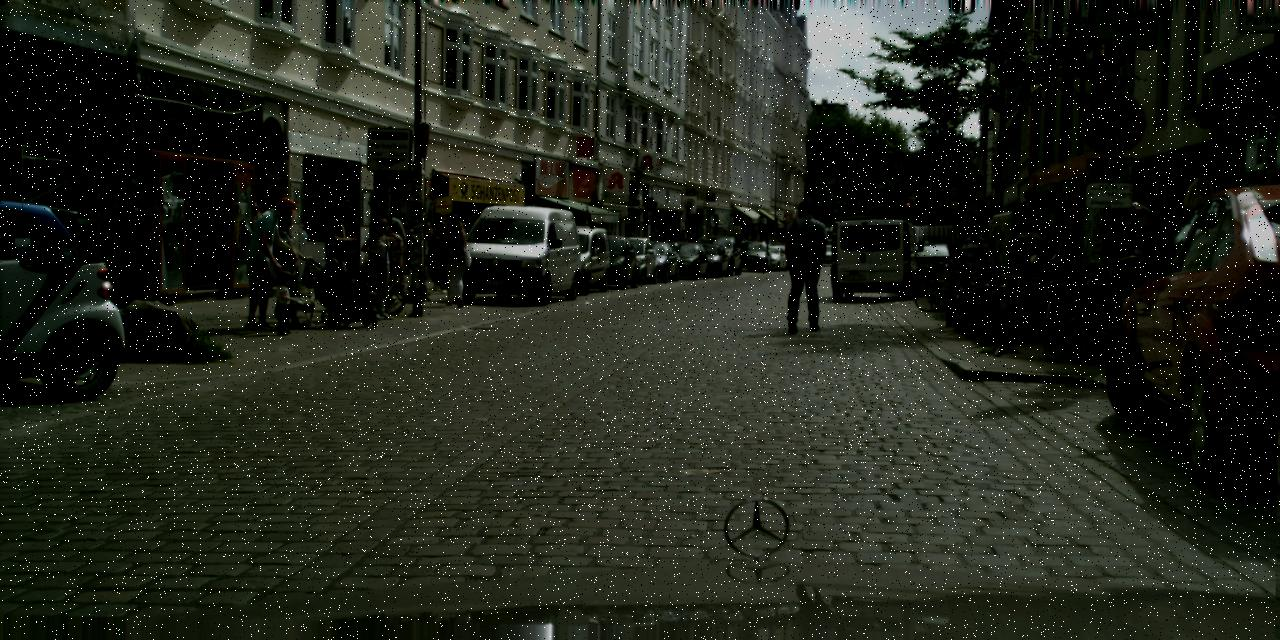ped: (1168, 177, 1236, 343), (242, 196, 297, 328), (778, 200, 831, 331), (263, 207, 311, 326), (320, 199, 362, 306), (361, 214, 403, 319), (435, 214, 473, 306), (371, 206, 405, 289), (958, 224, 990, 304), (422, 212, 454, 290), (272, 271, 296, 331), (956, 235, 974, 283), (597, 225, 612, 263), (624, 226, 638, 259), (668, 234, 678, 258), (685, 231, 694, 253)
